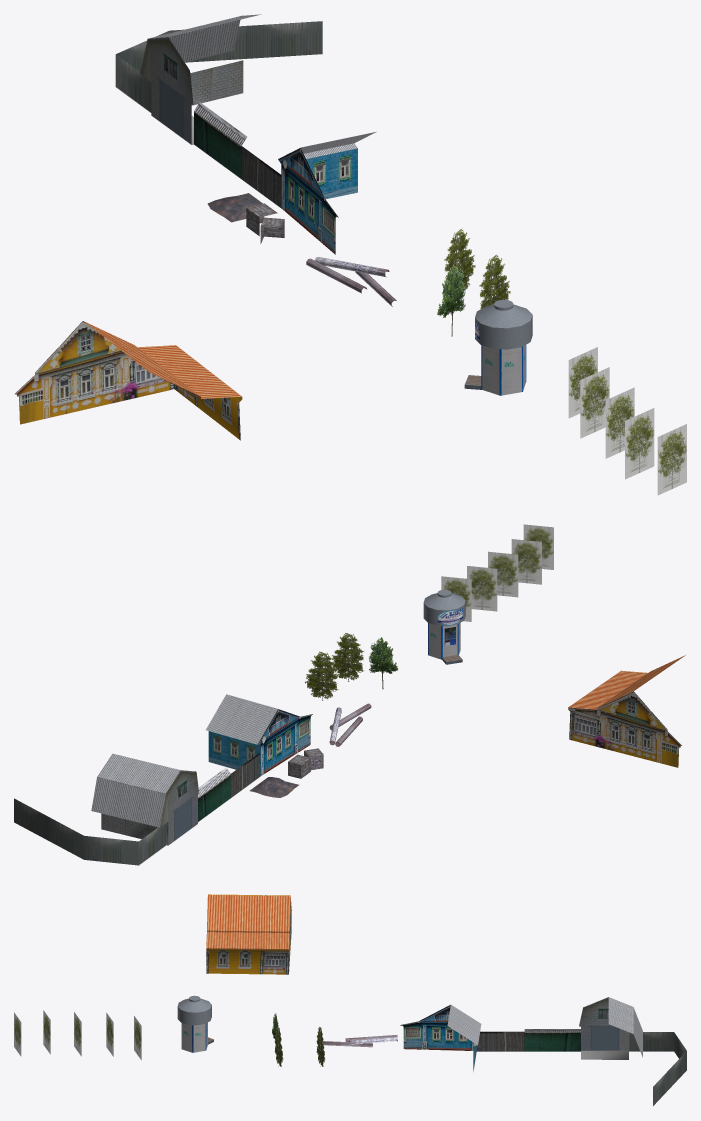
File: area2.FBX
The picture shows the model from 3 angles, top to bottom: view 1: azimuth 30°, elevation 25°; view 2: azimuth 150°, elevation 25°; view 3: azimuth 270°, elevation 25°; orthographic projection. The views are drawn at different scales.
Parts seen in each view (by area): view 1: teremki, map, leftGrow, vamin, stuff; view 2: map, teremki, leftGrow, vamin, stuff; view 3: teremki, map, leftGrow, vamin, stuff.
Part boxes in pixels (<box>): teremki: <box>14,131,376,440</box>; map: <box>115,14,322,208</box>; leftGrow: <box>437,228,686,495</box>; vamin: <box>464,299,532,395</box>; stuff: <box>207,193,396,306</box>; map: <box>14,752,259,865</box>; teremki: <box>206,655,685,776</box>; leftGrow: <box>305,524,553,700</box>; vamin: <box>423,589,465,664</box>; stuff: <box>249,703,371,797</box>; teremki: <box>206,894,481,1071</box>; map: <box>476,997,686,1105</box>; leftGrow: <box>14,1010,325,1066</box>; vamin: <box>177,995,213,1052</box>; stuff: <box>322,1035,397,1047</box>.
Bounding box in the file's own units: 6883 × 1021 × 11021.
